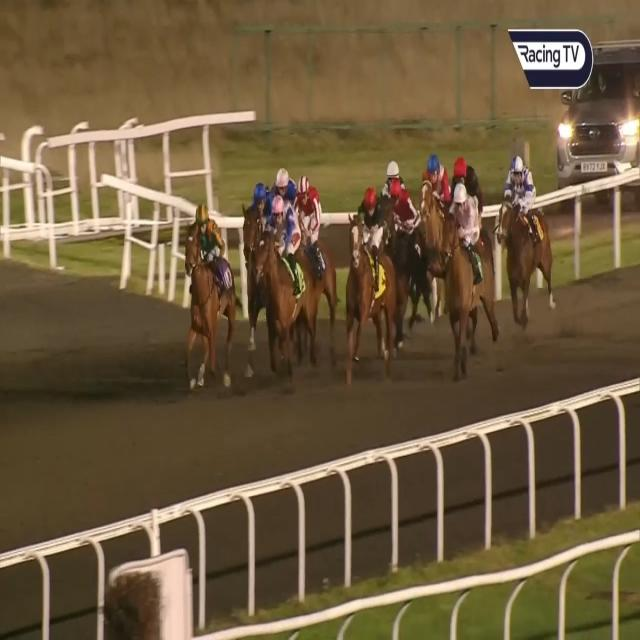horses-racing: (179, 198, 242, 384), (498, 150, 554, 322), (258, 198, 303, 372), (355, 190, 394, 376), (294, 170, 338, 316), (448, 184, 477, 352), (422, 149, 449, 273), (390, 179, 418, 263), (250, 180, 271, 266), (456, 163, 486, 209), (378, 157, 406, 202), (267, 170, 297, 198)
